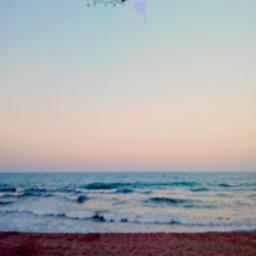Crow: (59, 0, 147, 231)
